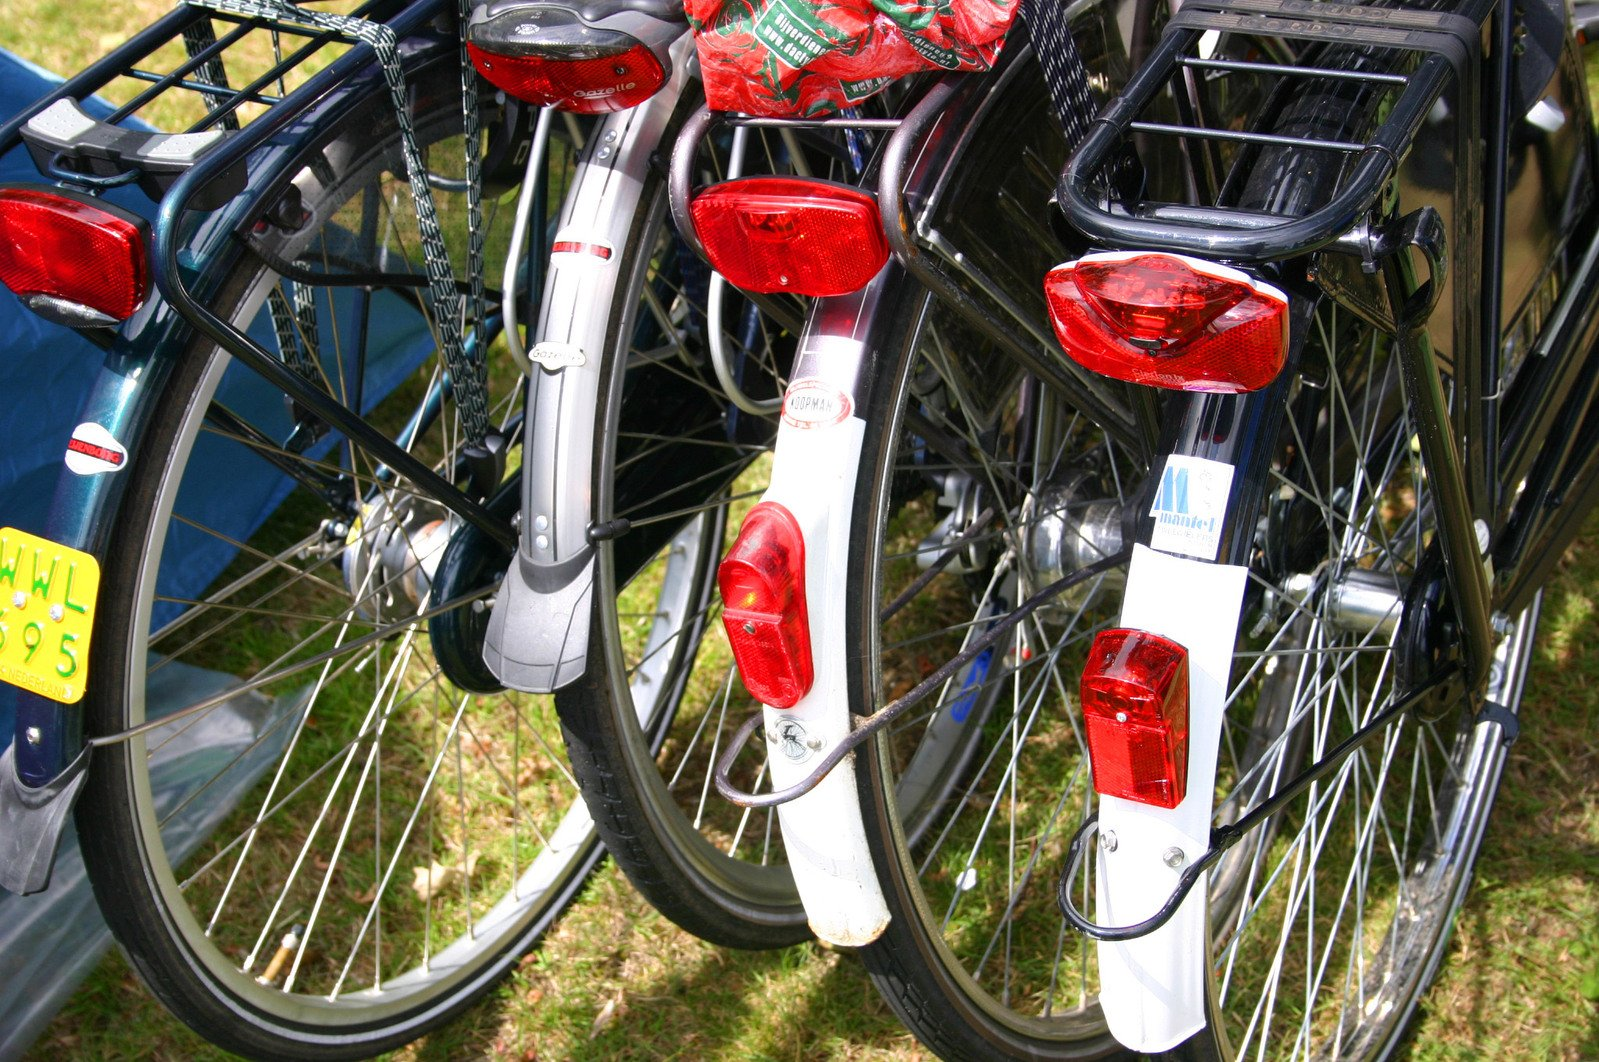Bicycle: (4, 1, 1599, 1042)
